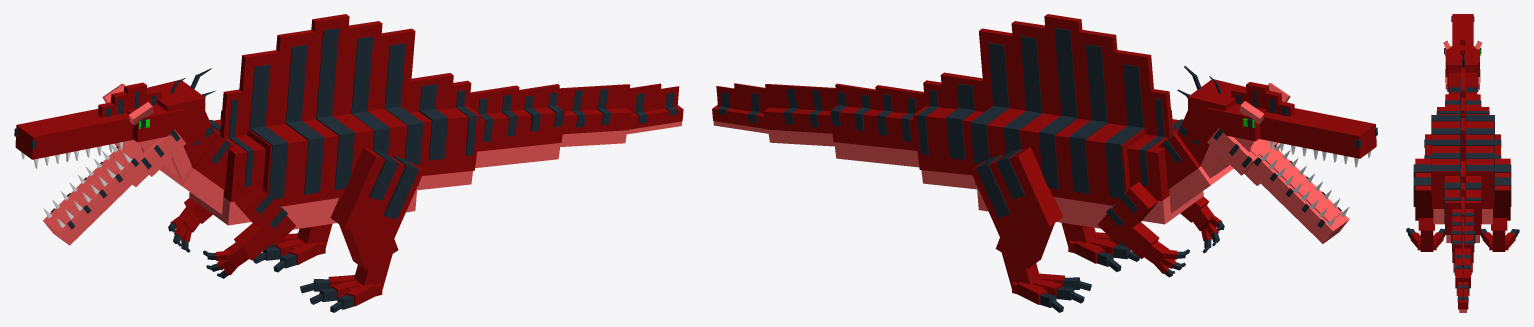
The model's file is lod_spinosaurus.obj.
3 views of the same model, side by side, from view 1: azimuth 30°, elevation 25°; view 2: azimuth 150°, elevation 25°; view 3: azimuth 270°, elevation 25° (orthographic). The views are drawn at different scales.
Visible parts, largest first — view 1: lod_spinosaurus; view 2: lod_spinosaurus; view 3: lod_spinosaurus.
Part boxes in pixels (x1,y1,x2,y2): lod_spinosaurus: (14,14,683,312); lod_spinosaurus: (712,14,1377,312); lod_spinosaurus: (1406,14,1519,312).
Size of the model in its own units: 27.79 by 10.41 by 6.56.
